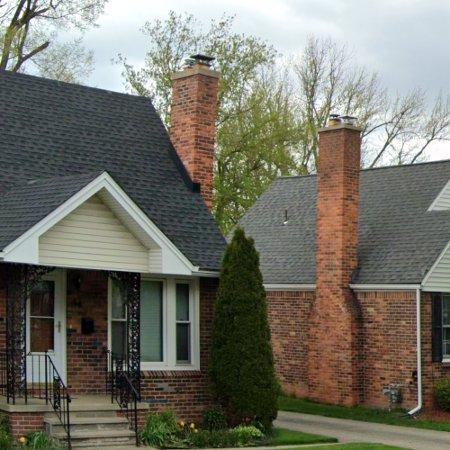chimneys: (309, 118, 362, 405), (170, 55, 220, 211)
